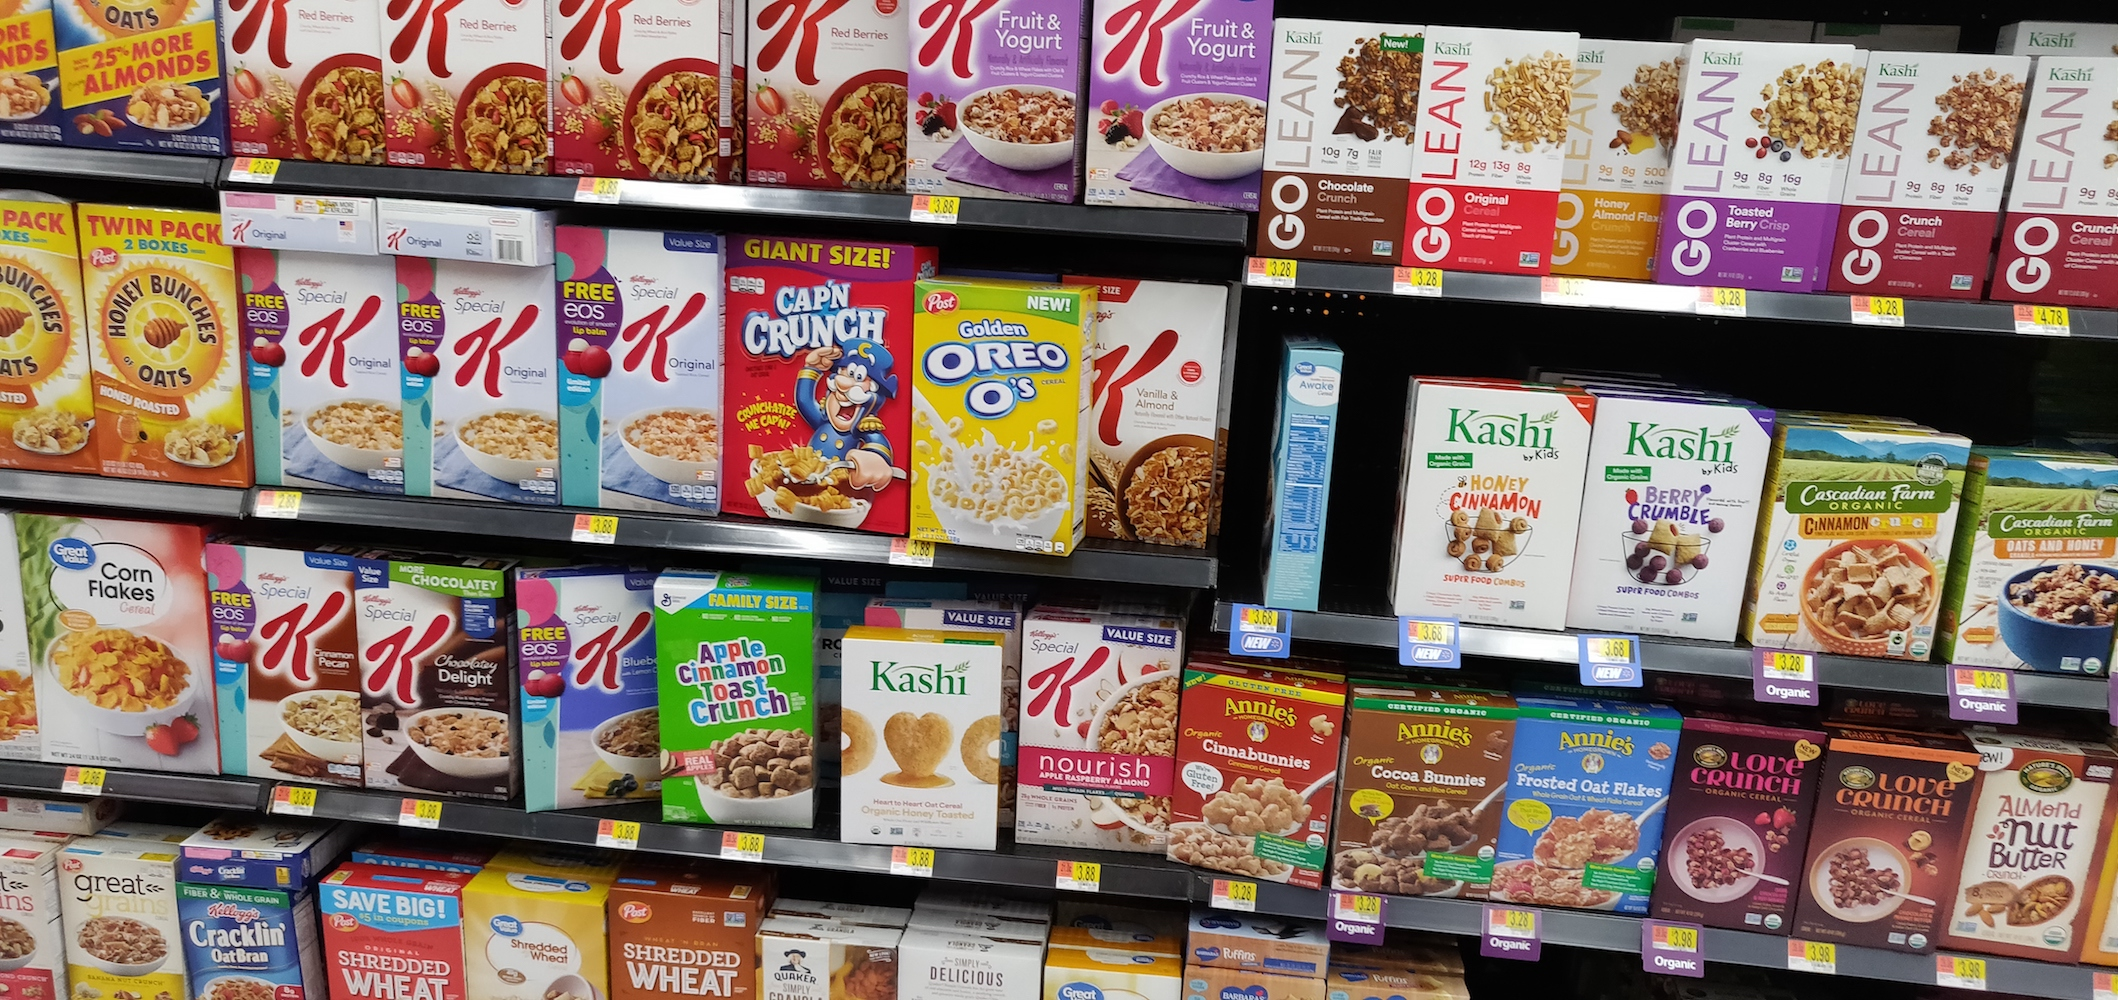Oreo Golden-568301011: (910, 291, 1091, 543)
